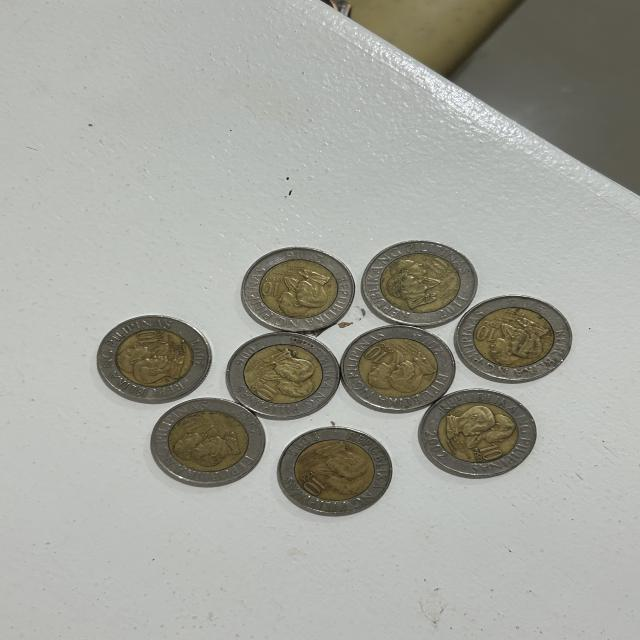10_Old_Front: (177, 417, 233, 462), (464, 441, 506, 470), (296, 470, 330, 498), (255, 268, 283, 299), (418, 254, 454, 278), (471, 318, 501, 345), (251, 378, 278, 404), (364, 342, 395, 364), (133, 329, 167, 346)
